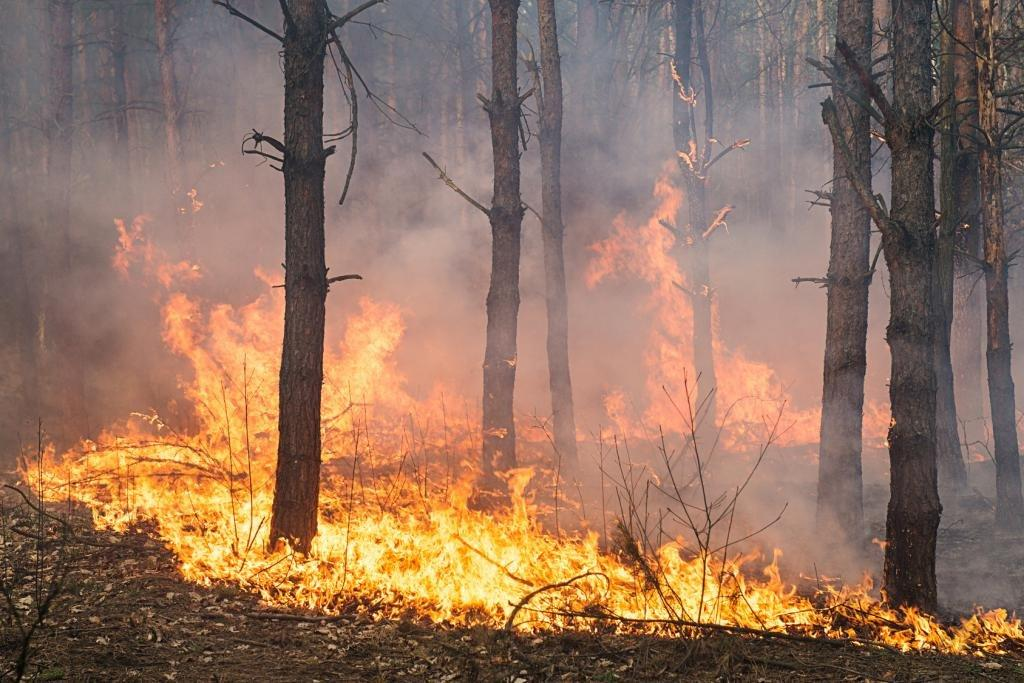fire: (317, 417, 597, 629), (148, 253, 283, 608), (586, 168, 694, 453), (597, 535, 822, 640), (320, 298, 483, 416), (2, 418, 146, 541), (823, 575, 1023, 660), (713, 343, 819, 451), (282, 536, 317, 612), (109, 219, 147, 274), (863, 404, 894, 450), (183, 187, 205, 215)
smoke: (323, 27, 490, 300), (713, 67, 820, 346), (0, 144, 283, 244), (0, 270, 160, 429), (564, 5, 662, 207), (177, 14, 283, 143), (939, 463, 1018, 603), (716, 453, 821, 554), (823, 426, 881, 577), (518, 153, 551, 404)
